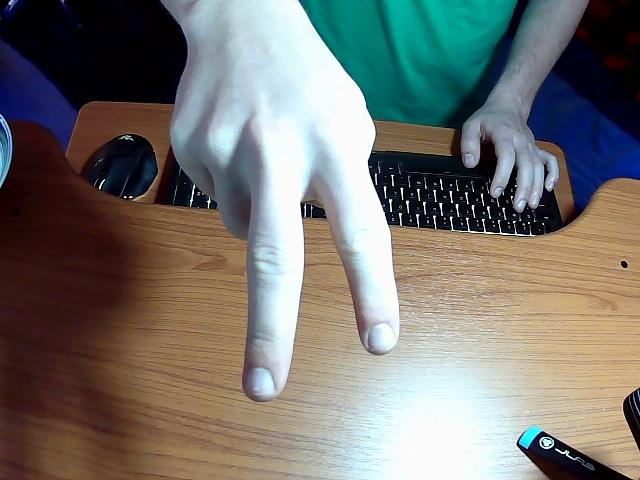scissors: (165, 0, 584, 401)
